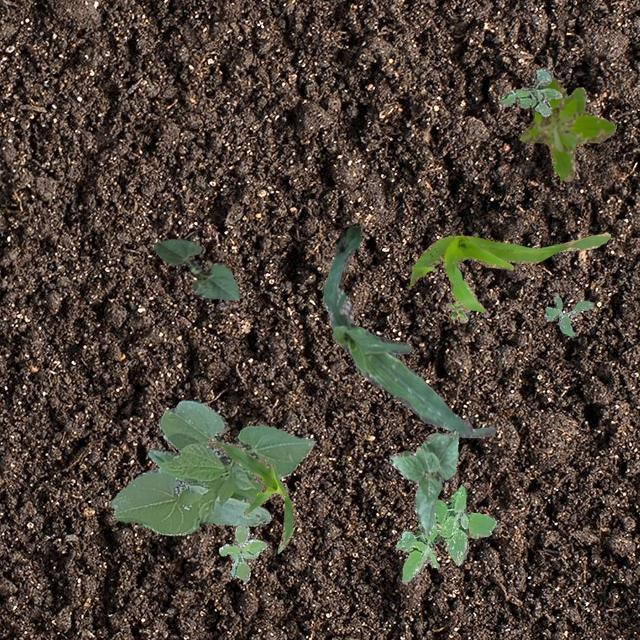crop: (322, 224, 494, 436), (110, 398, 316, 534), (410, 230, 610, 312), (204, 438, 296, 552), (388, 428, 458, 534), (152, 238, 240, 300)
weed: (518, 76, 616, 180), (394, 486, 496, 582), (498, 66, 560, 116), (218, 524, 266, 580), (542, 296, 594, 336), (447, 300, 468, 322)
